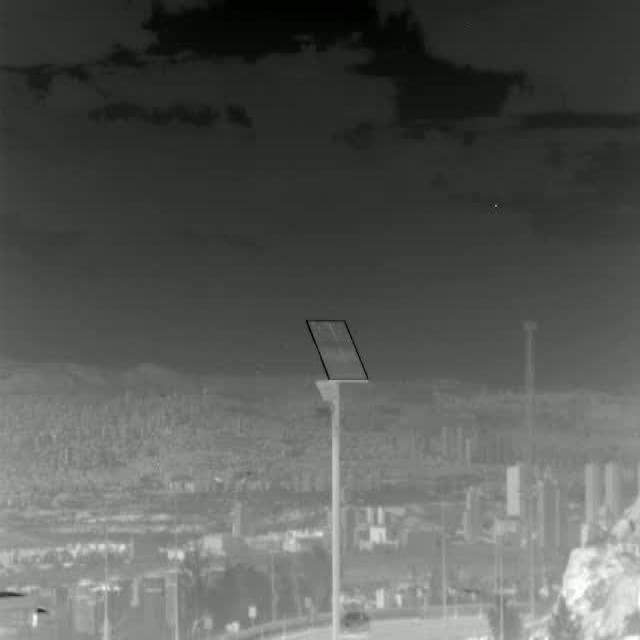Car: (340, 610, 372, 634)
